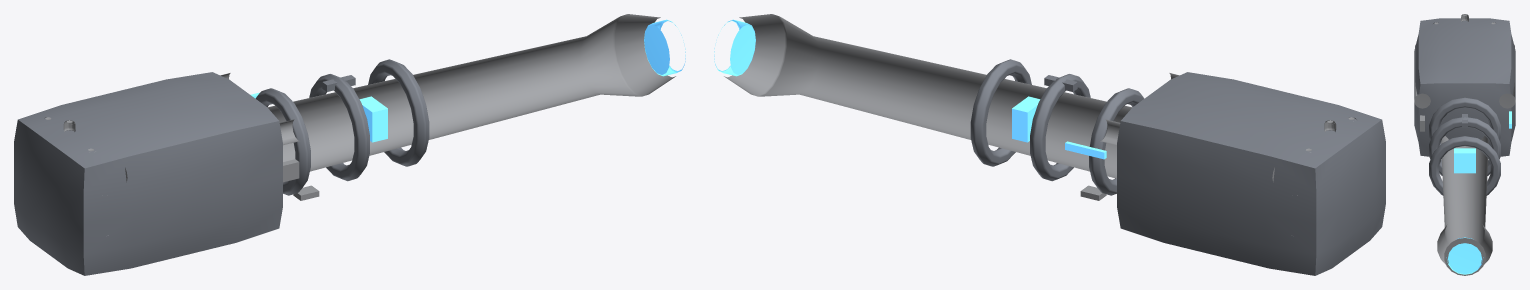
Rendered from weapon_pulse_cannon.glb.
3 renders of one model, left to right at view 1: azimuth 30°, elevation 25°; view 2: azimuth 150°, elevation 25°; view 3: azimuth 270°, elevation 25°, orthographic. The views are drawn at different scales.
Parts seen in each view (by area): view 1: weapon_pulse_cannon_Material_Hull_Merged, weapon_pulse_cannon_Material_Mechanical_Merged, Pulse_Muzzle_Glow, DET_emitter_glow; view 2: weapon_pulse_cannon_Material_Hull_Merged, weapon_pulse_cannon_Material_Mechanical_Merged, Pulse_Muzzle_Glow, DET_emitter_glow; view 3: weapon_pulse_cannon_Material_Hull_Merged, weapon_pulse_cannon_Material_Mechanical_Merged, Pulse_Muzzle_Glow, DET_emitter_glow, DET_heat_vent_stack.
Boxes of the visible parts, bbox=[...] form: weapon_pulse_cannon_Material_Hull_Merged: bbox=[14, 59, 429, 275]; weapon_pulse_cannon_Material_Mechanical_Merged: bbox=[44, 14, 675, 235]; Pulse_Muzzle_Glow: bbox=[644, 19, 685, 76]; DET_emitter_glow: bbox=[359, 96, 387, 142]; weapon_pulse_cannon_Material_Hull_Merged: bbox=[970, 59, 1385, 275]; weapon_pulse_cannon_Material_Mechanical_Merged: bbox=[724, 14, 1356, 235]; Pulse_Muzzle_Glow: bbox=[714, 19, 755, 76]; DET_emitter_glow: bbox=[1012, 96, 1040, 142]; weapon_pulse_cannon_Material_Hull_Merged: bbox=[1414, 18, 1515, 195]; weapon_pulse_cannon_Material_Mechanical_Merged: bbox=[1414, 14, 1515, 275]; Pulse_Muzzle_Glow: bbox=[1446, 237, 1483, 274]; DET_emitter_glow: bbox=[1454, 148, 1475, 173]; DET_heat_vent_stack: bbox=[1420, 115, 1424, 131].
Bounding box in the file's own units: 4.79 × 1.04 × 1.01.
